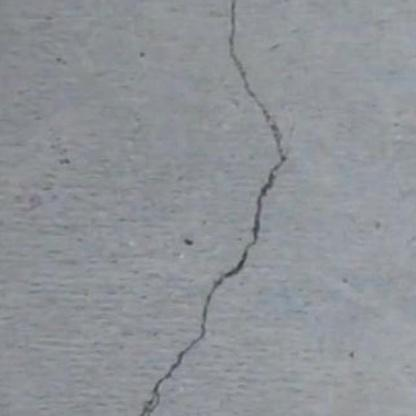Cracks: (124, 0, 293, 416)
